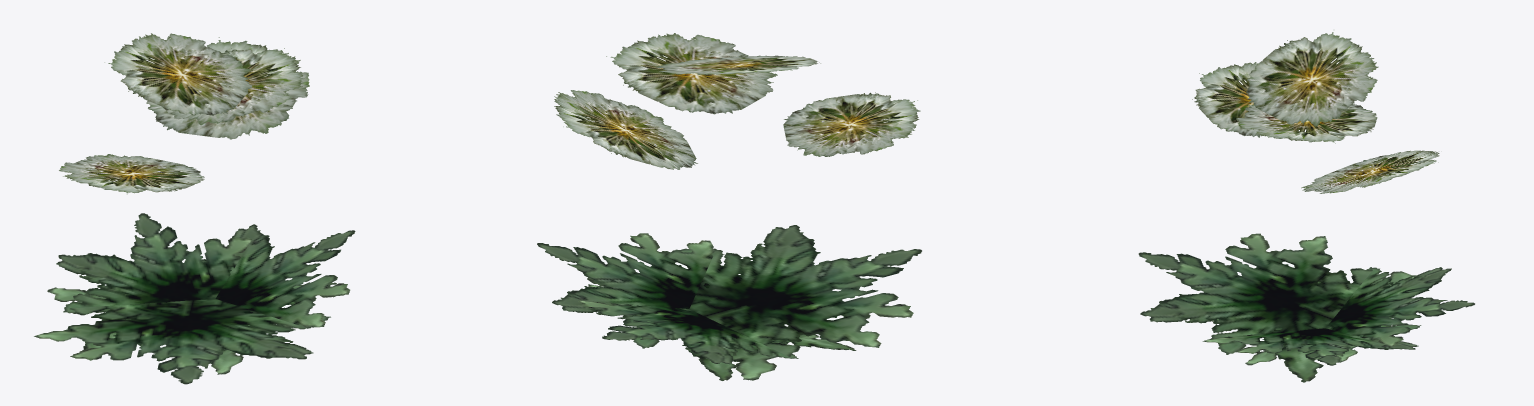
Rendered from flower_w_lod1.glb.
3 renders of one model, left to right at view 1: azimuth 30°, elevation 25°; view 2: azimuth 150°, elevation 25°; view 3: azimuth 270°, elevation 25°, orthographic. The views are drawn at different scales.
Parts seen in each view (by area): view 1: flower_w_lod1; view 2: flower_w_lod1; view 3: flower_w_lod1.
Boxes of the visible parts, box(x1,y1,x2,y2) form: flower_w_lod1: box(34, 33, 355, 384); flower_w_lod1: box(537, 33, 921, 380); flower_w_lod1: box(1138, 32, 1474, 382).
Bounding box in the file's own units: 1.06 × 0.66 × 1.02.
Materials: 2 (2 with a texture image).
